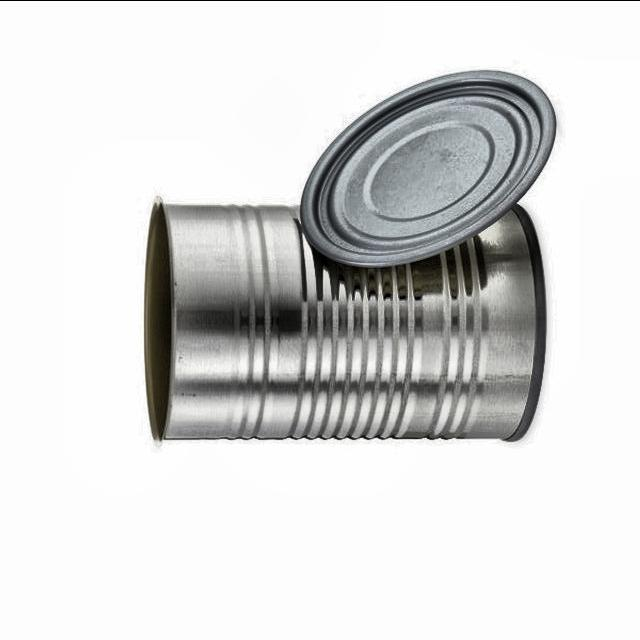Aluminum Can: (123, 193, 548, 453), (288, 56, 563, 270)
